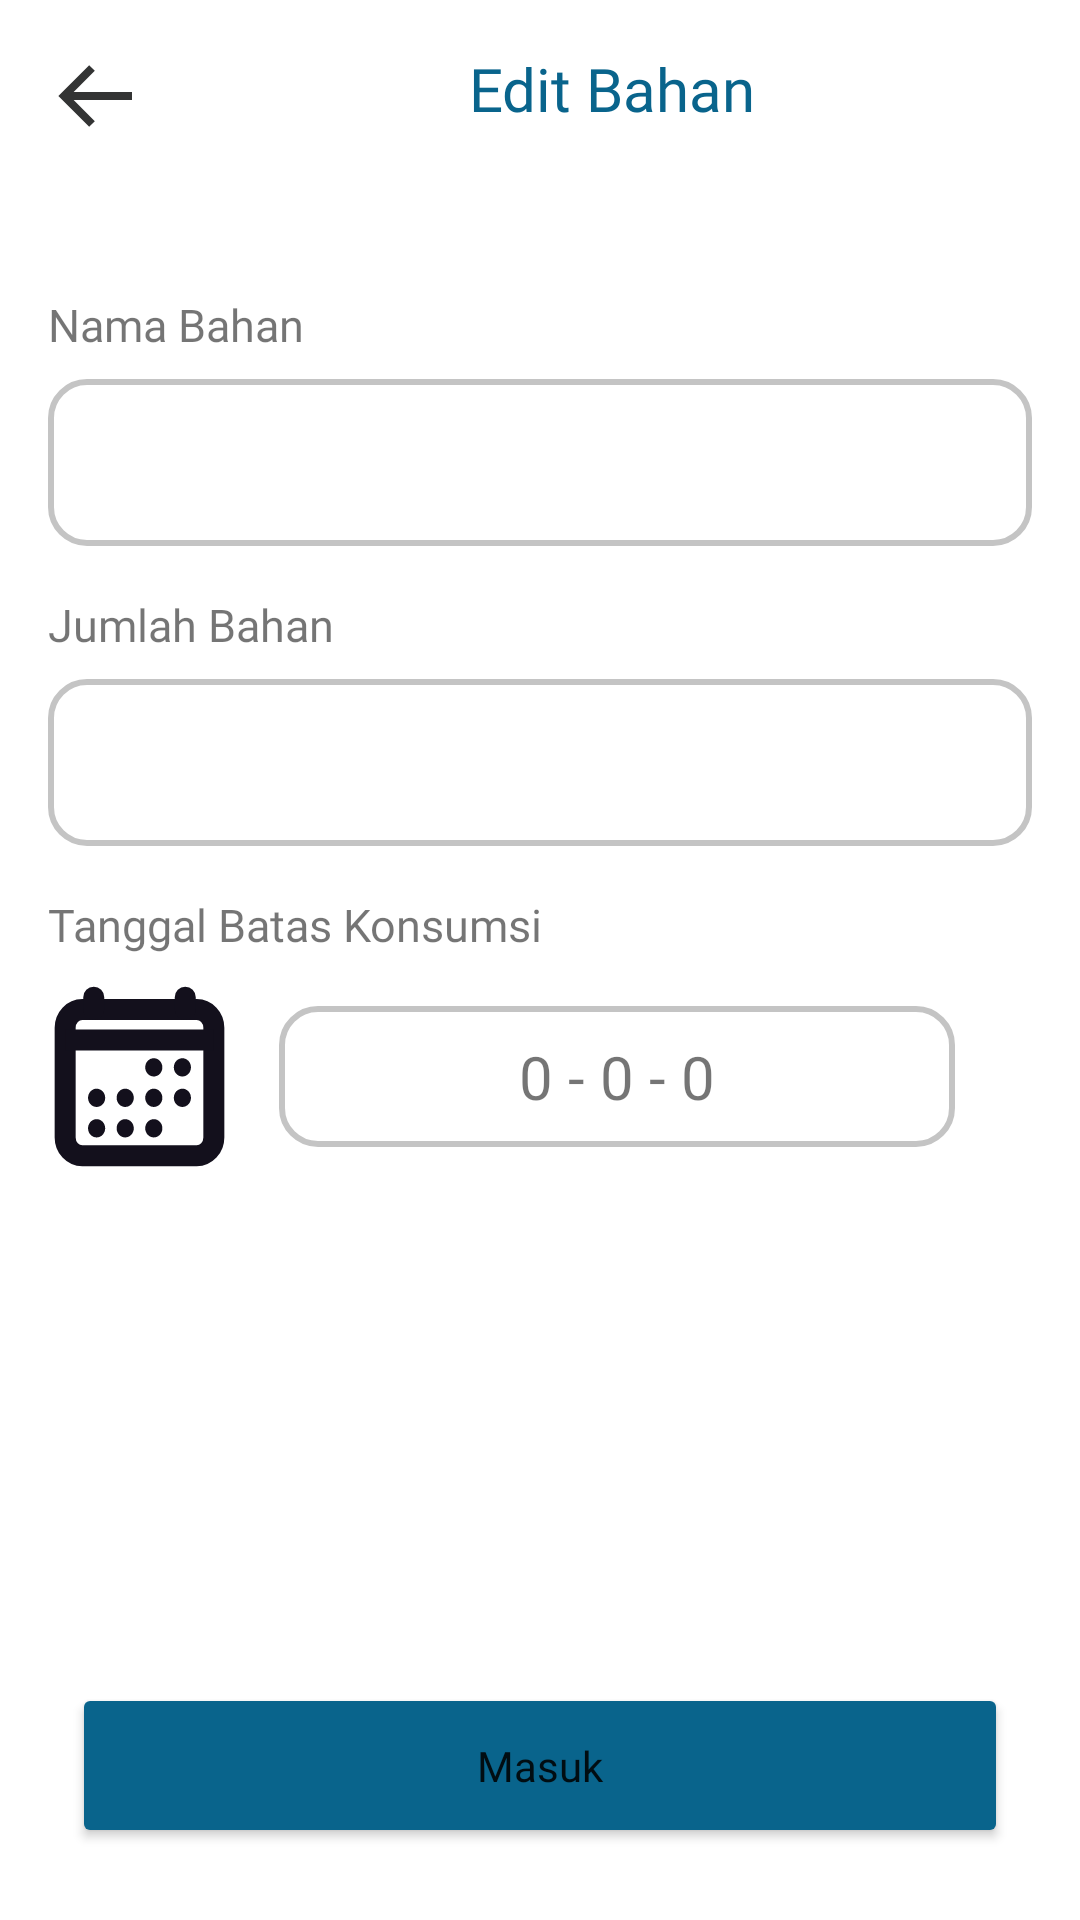

Icons on this 1080 × 1920 Android screen, each with its box as (x1, y1, x2, y2):
back: (58, 65, 132, 127)
calendar add: (54, 986, 225, 1167)
